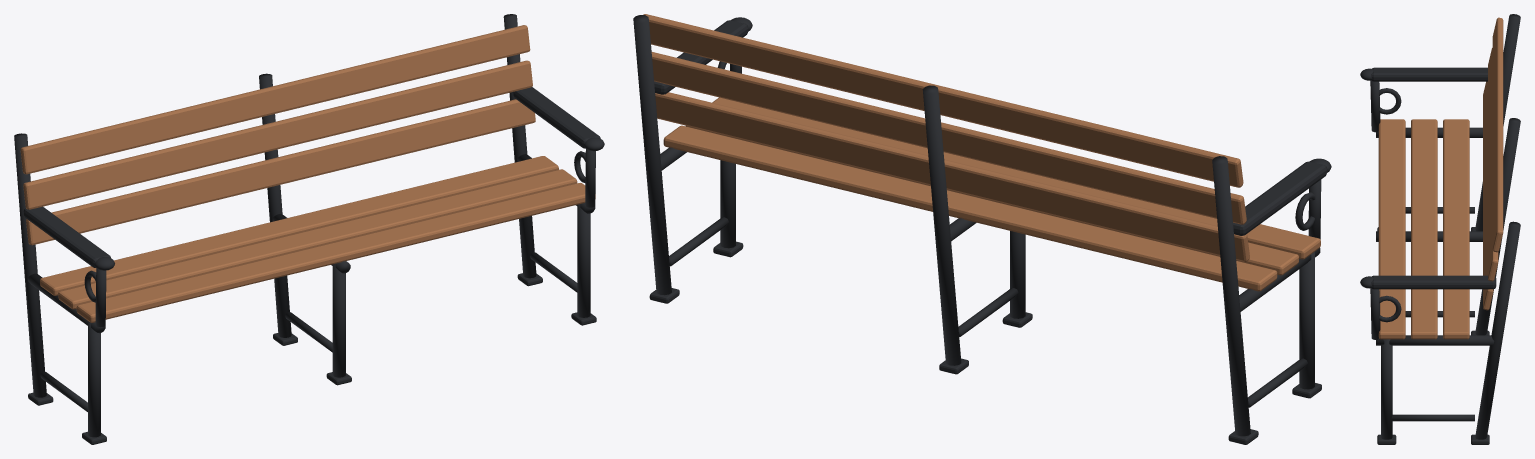
Rendered from benchGarden3.glb.
The picture shows the model from 3 angles, left to right: view 1: azimuth 30°, elevation 25°; view 2: azimuth 150°, elevation 25°; view 3: azimuth 270°, elevation 25°; orthographic projection. The views are drawn at different scales.
Parts seen in each view (by area): view 1: benchGarden3; view 2: benchGarden3; view 3: benchGarden3.
Boxes of the visible parts, x1=… form: benchGarden3: x1=14, y1=14, x2=604, y2=444; benchGarden3: x1=633, y1=14, x2=1331, y2=444; benchGarden3: x1=1360, y1=14, x2=1520, y2=444.
Size of the model in its own units: 1.91 by 0.9063 by 0.6018.
